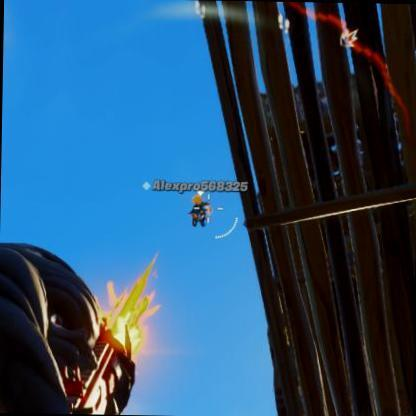person: (186, 196, 212, 228)
